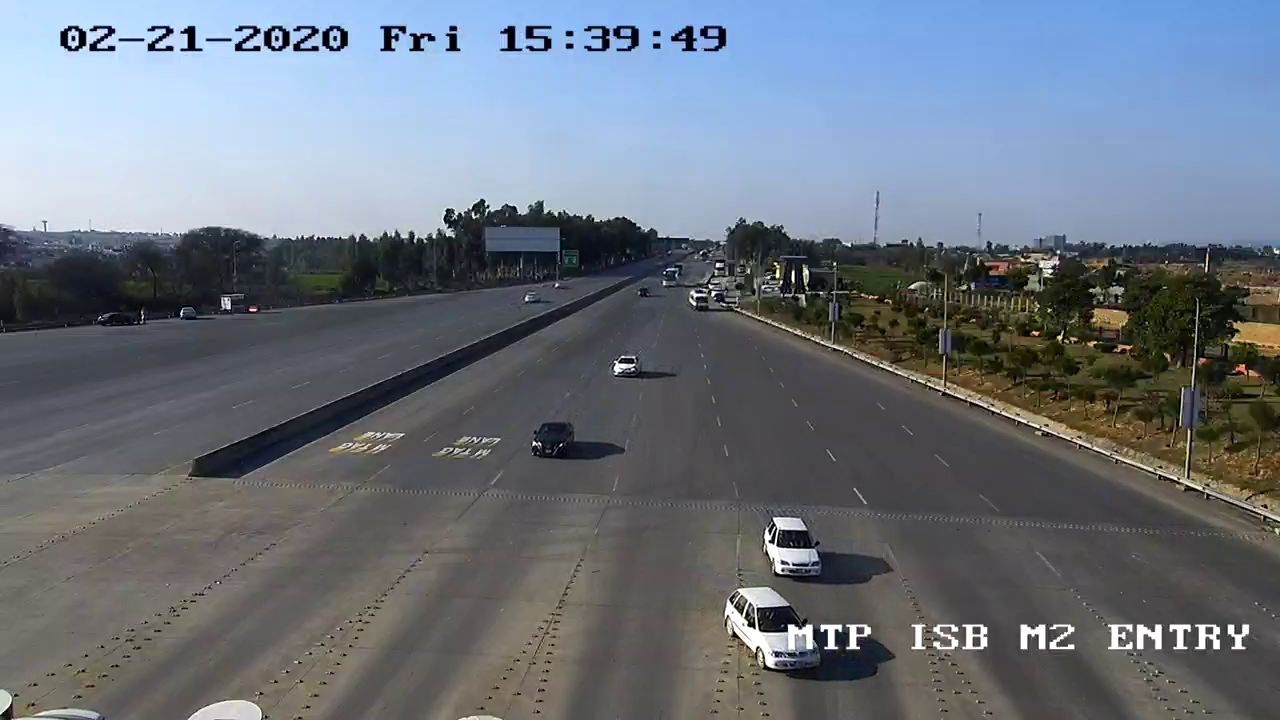f1: (723, 575, 819, 668), (749, 501, 834, 594), (525, 414, 580, 472), (602, 344, 646, 394)
